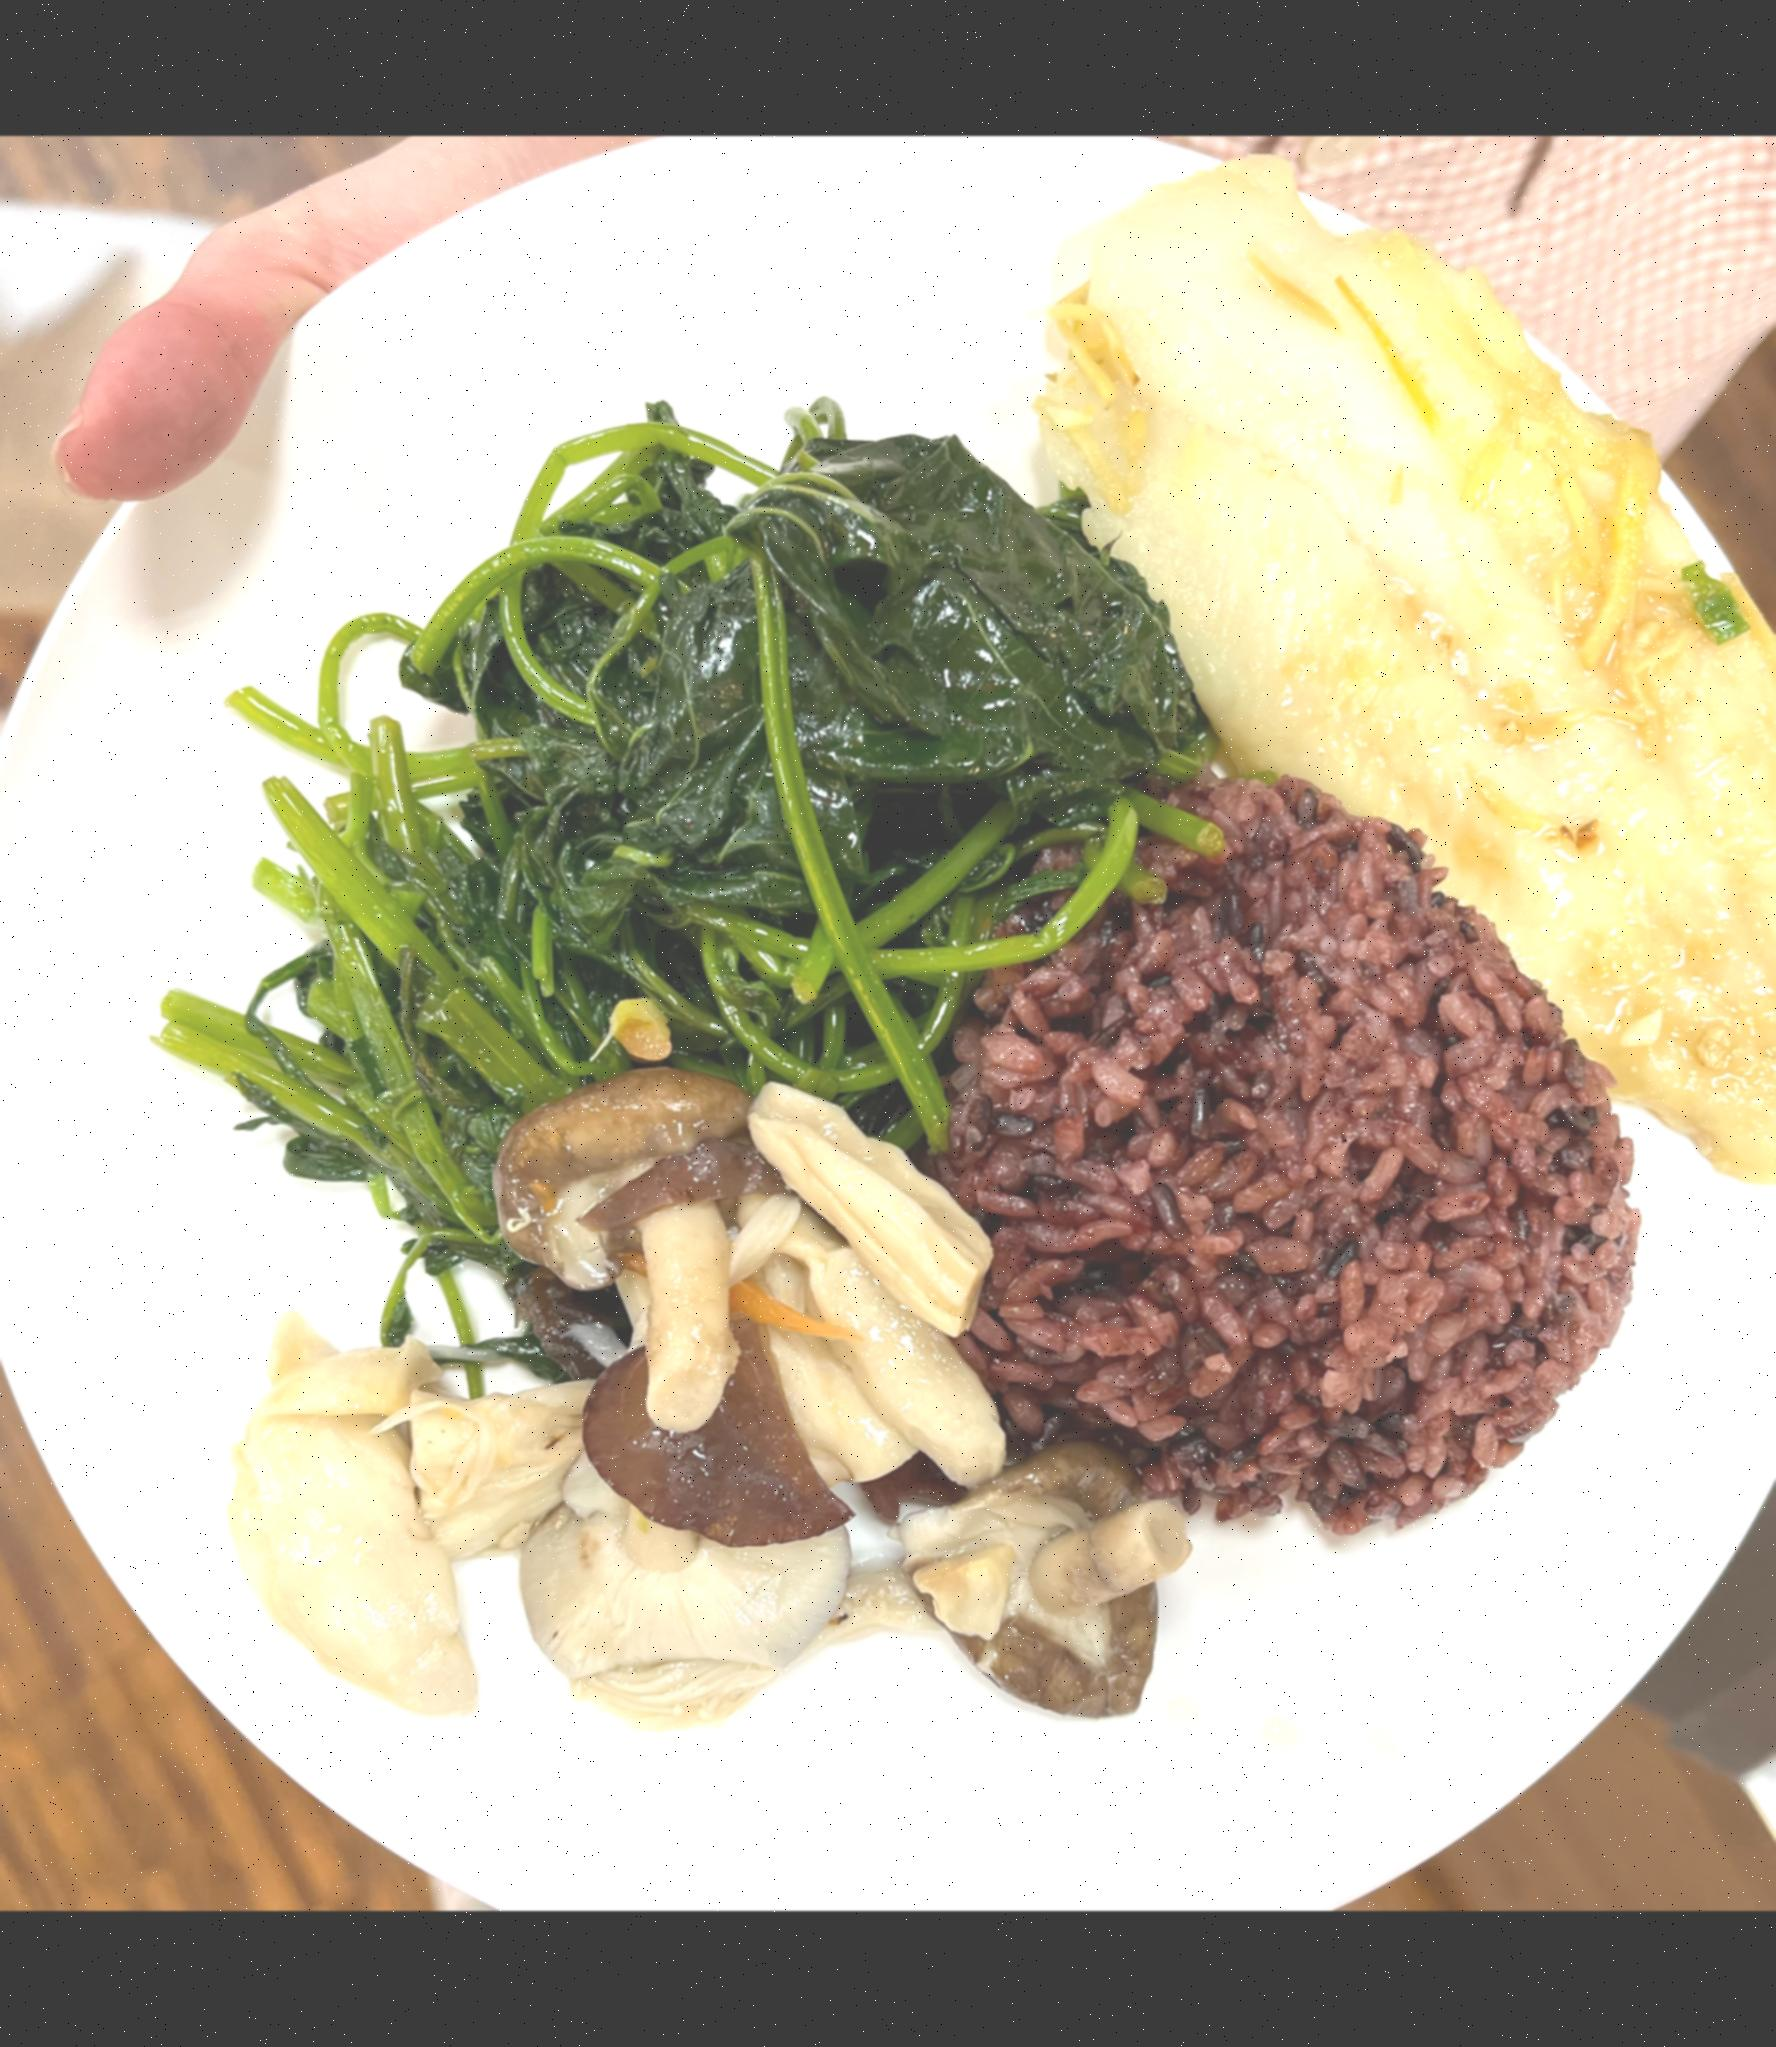plate: (0, 135, 1776, 1886)
purple rice: (923, 781, 1634, 1538)
side dish: (260, 414, 1165, 1123), (219, 1072, 1104, 1710)
steamed fish fillet: (1006, 166, 1776, 1175)
